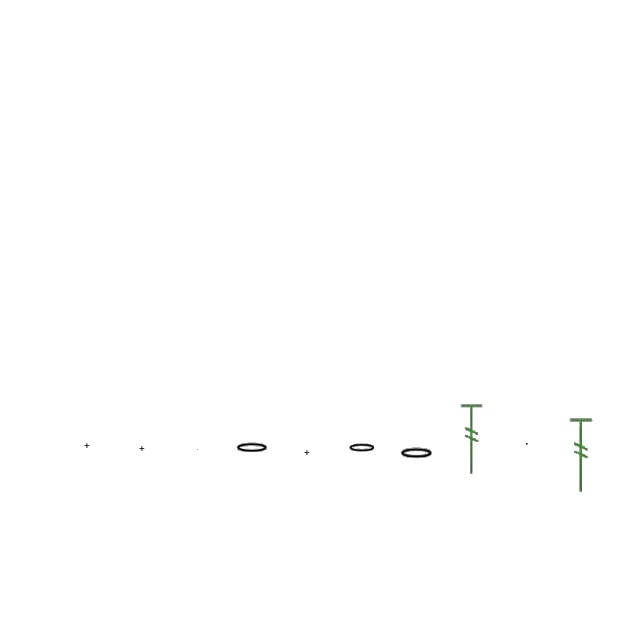chain: (398, 446, 436, 462), (234, 441, 270, 455), (347, 442, 377, 454), (526, 443, 528, 445), (196, 450, 198, 450)
double: (139, 446, 145, 452), (304, 450, 310, 456), (84, 444, 90, 448)
fan: (568, 416, 596, 494), (458, 402, 486, 476)
